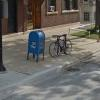Bicycle: (48, 31, 72, 61)
